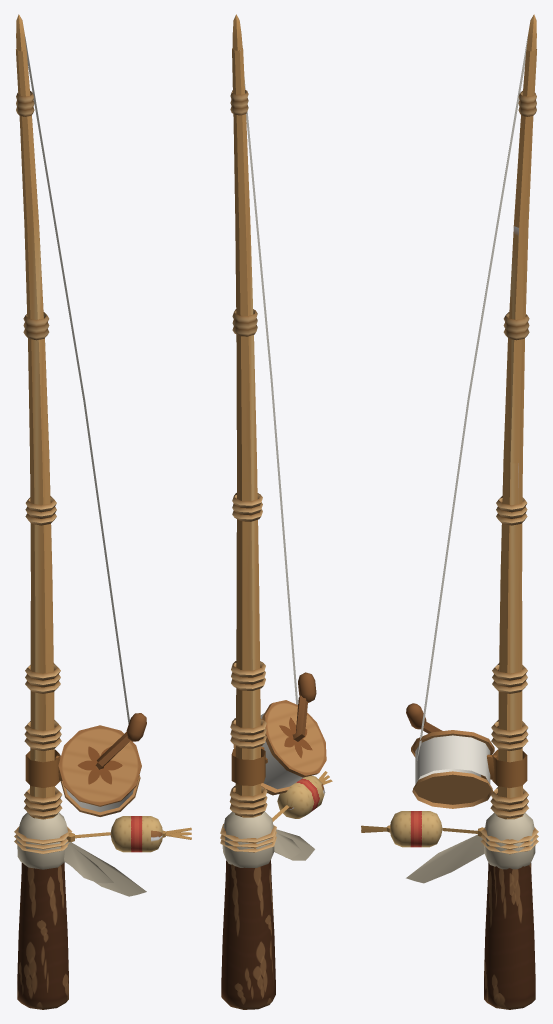
File: rod-flimsy.glb
The picture shows the model from 3 angles, left to right: view 1: azimuth 90°, elevation 25°; view 2: azimuth 150°, elevation 25°; view 3: azimuth 270°, elevation 25°; orthographic projection.
Parts seen in each view (by area): view 1: rod-flimsy; view 2: rod-flimsy; view 3: rod-flimsy.
Part boxes in pixels (x1=…): rod-flimsy: x1=14, y1=14, x2=191, y2=1009; rod-flimsy: x1=220, y1=14, x2=332, y2=1009; rod-flimsy: x1=361, y1=14, x2=538, y2=1009.
Size of the model in its own units: 0.0791 by 0.9546 by 0.1562.
Materials: 4 (4 with a texture image).
